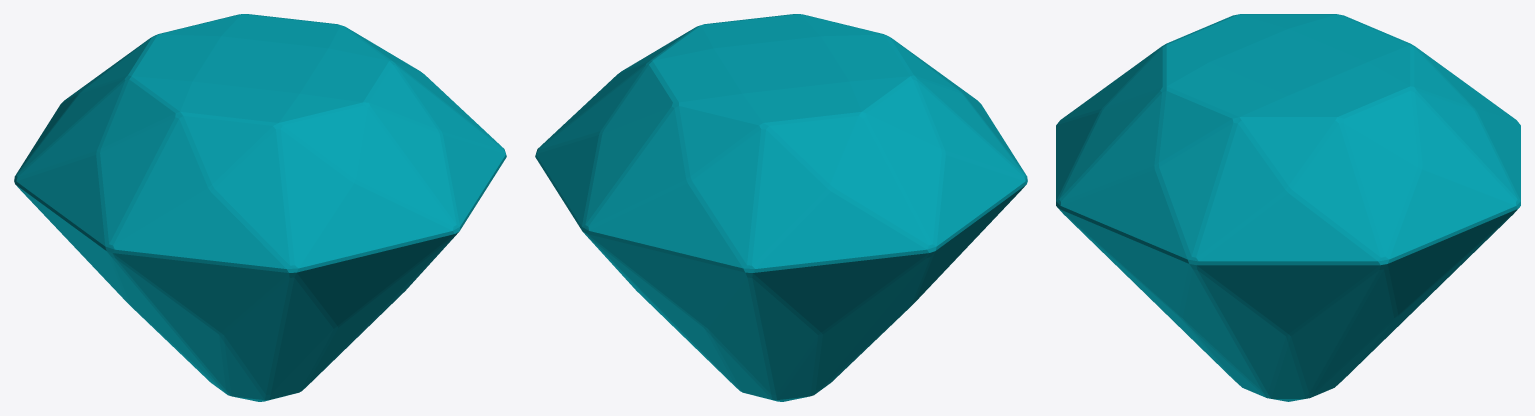
The model's file is Light Blue Chaos Emerald.obj.
3 views of the same model, side by side, from view 1: azimuth 30°, elevation 25°; view 2: azimuth 150°, elevation 25°; view 3: azimuth 270°, elevation 25° (orthographic).
Bounding box in the file's own units: 37.38 × 29.91 × 37.38.
1 material, 1 textured.
